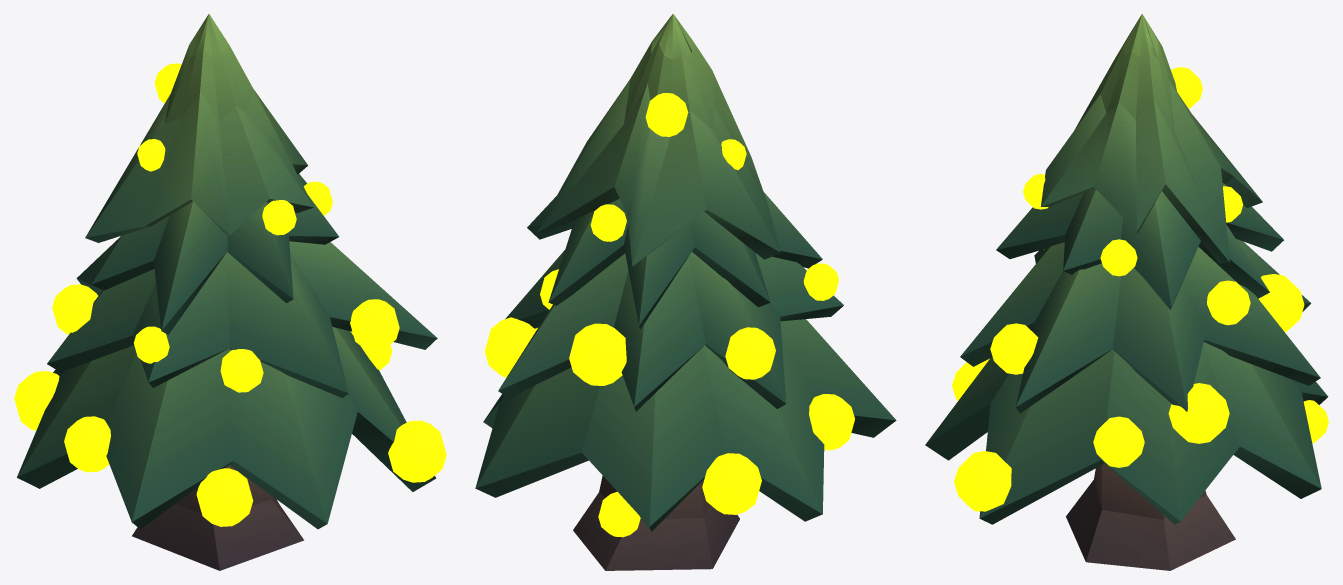
The model's file is elka yel.glb.
The picture shows the model from 3 angles, left to right: view 1: azimuth 30°, elevation 25°; view 2: azimuth 150°, elevation 25°; view 3: azimuth 270°, elevation 25°; orthographic projection. The views are drawn at different scales.
Visible parts, largest first — view 1: 22__treetop_001_chris, 23__treetop_002_chris, 25__treetop_004_chris, 2__sphere_red_004_chr, 24__treetop_003_chris, 1__christmas; view 2: 22__treetop_001_chris, 25__treetop_004_chris, 23__treetop_002_chris, 2__sphere_red_004_chr, 24__treetop_003_chris, 1__christmas; view 3: 22__treetop_001_chris, 23__treetop_002_chris, 25__treetop_004_chris, 2__sphere_red_004_chr, 24__treetop_003_chris, 1__christmas.
Part boxes in pixels (box(x1,y1,x2,y2)): 22__treetop_001_chris: box(17, 327, 436, 529); 23__treetop_002_chris: box(47, 237, 437, 397); 25__treetop_004_chris: box(85, 14, 313, 242); 2__sphere_red_004_chr: box(14, 63, 446, 526); 24__treetop_003_chris: box(91, 174, 339, 334); 1__christmas: box(132, 465, 304, 570); 22__treetop_001_chris: box(475, 319, 896, 531); 25__treetop_004_chris: box(536, 14, 780, 266); 23__treetop_002_chris: box(498, 250, 843, 411); 2__sphere_red_004_chr: box(485, 93, 854, 537); 24__treetop_003_chris: box(527, 191, 822, 329); 1__christmas: box(573, 476, 739, 570); 22__treetop_001_chris: box(925, 342, 1328, 524); 23__treetop_002_chris: box(960, 239, 1320, 413); 25__treetop_004_chris: box(1041, 14, 1262, 263); 2__sphere_red_004_chr: box(952, 67, 1328, 511); 24__treetop_003_chris: box(996, 183, 1283, 309); 1__christmas: box(1066, 463, 1235, 570).
Bounding box in the file's own units: 6.75 × 9.91 × 7.03.
6 materials, 5 textured.
